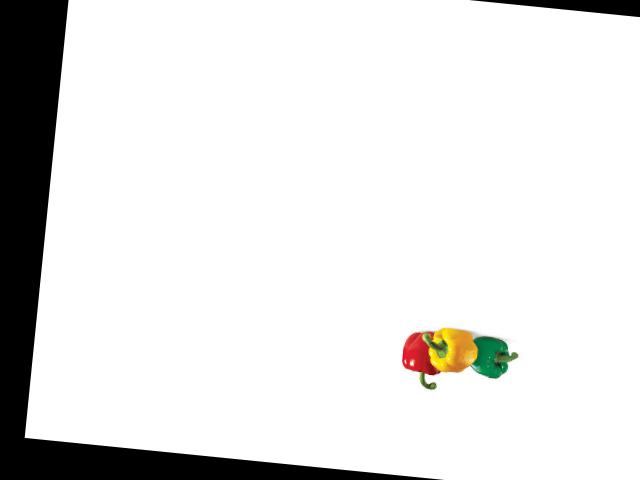bell_pepper: (463, 330, 518, 384)
